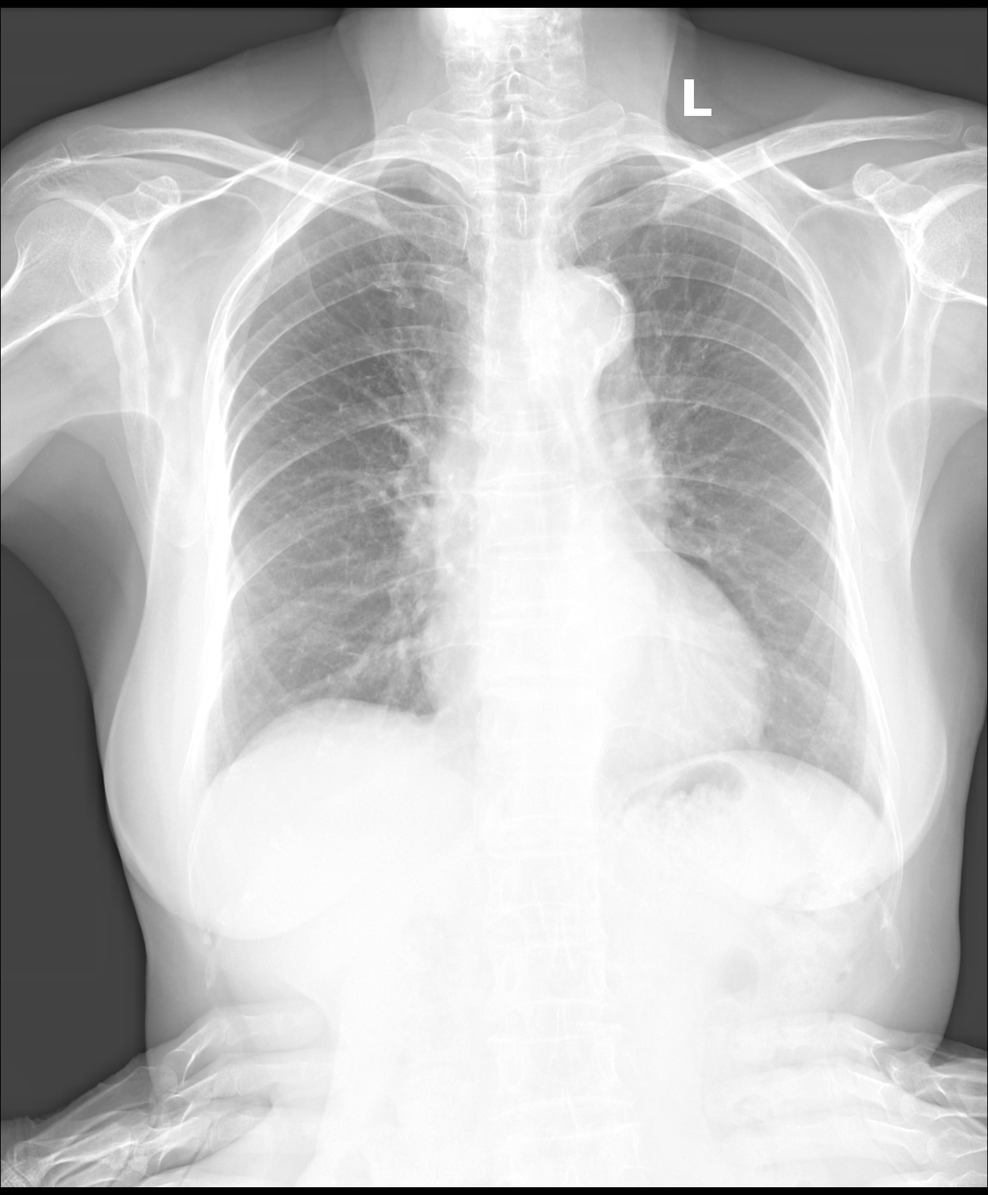Aortic enlargement: (520, 264, 638, 370)
Cardiomegaly: (414, 622, 772, 759)
Pleural thickening: (194, 765, 214, 825), (875, 795, 894, 833)
